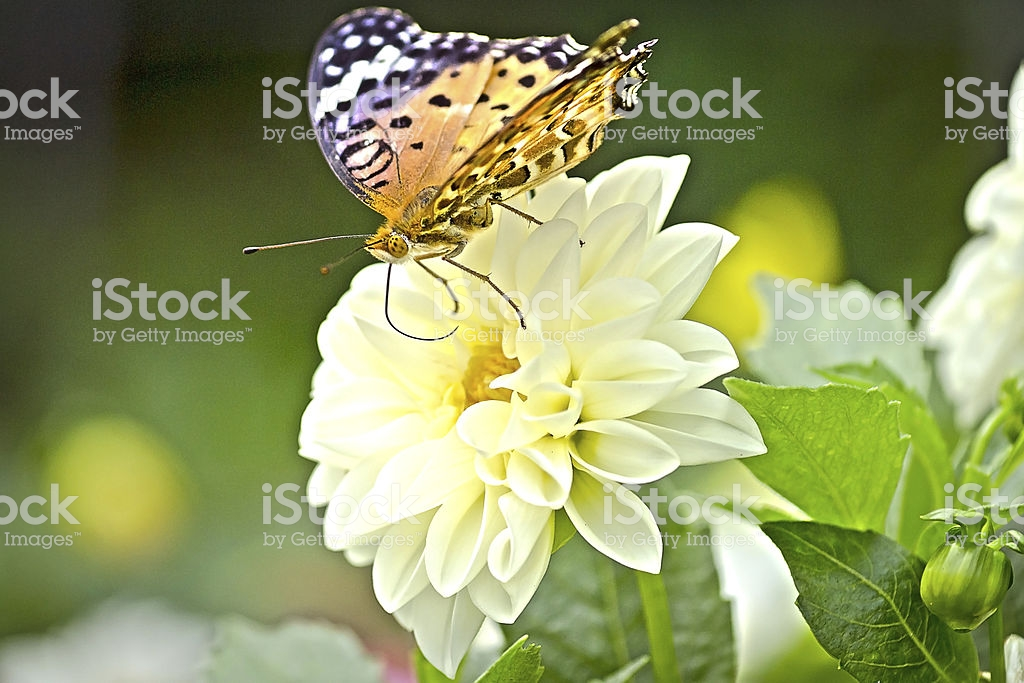Argyreus hyperbius: (234, 3, 670, 345)
butterfly: (232, 1, 668, 343)
